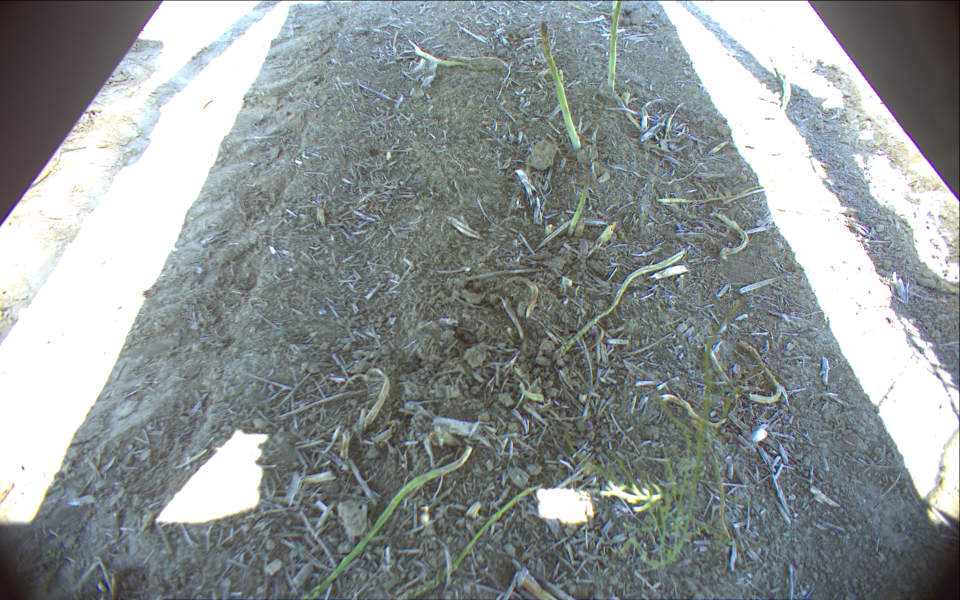aspa: (535, 17, 583, 154), (603, 1, 628, 95)
